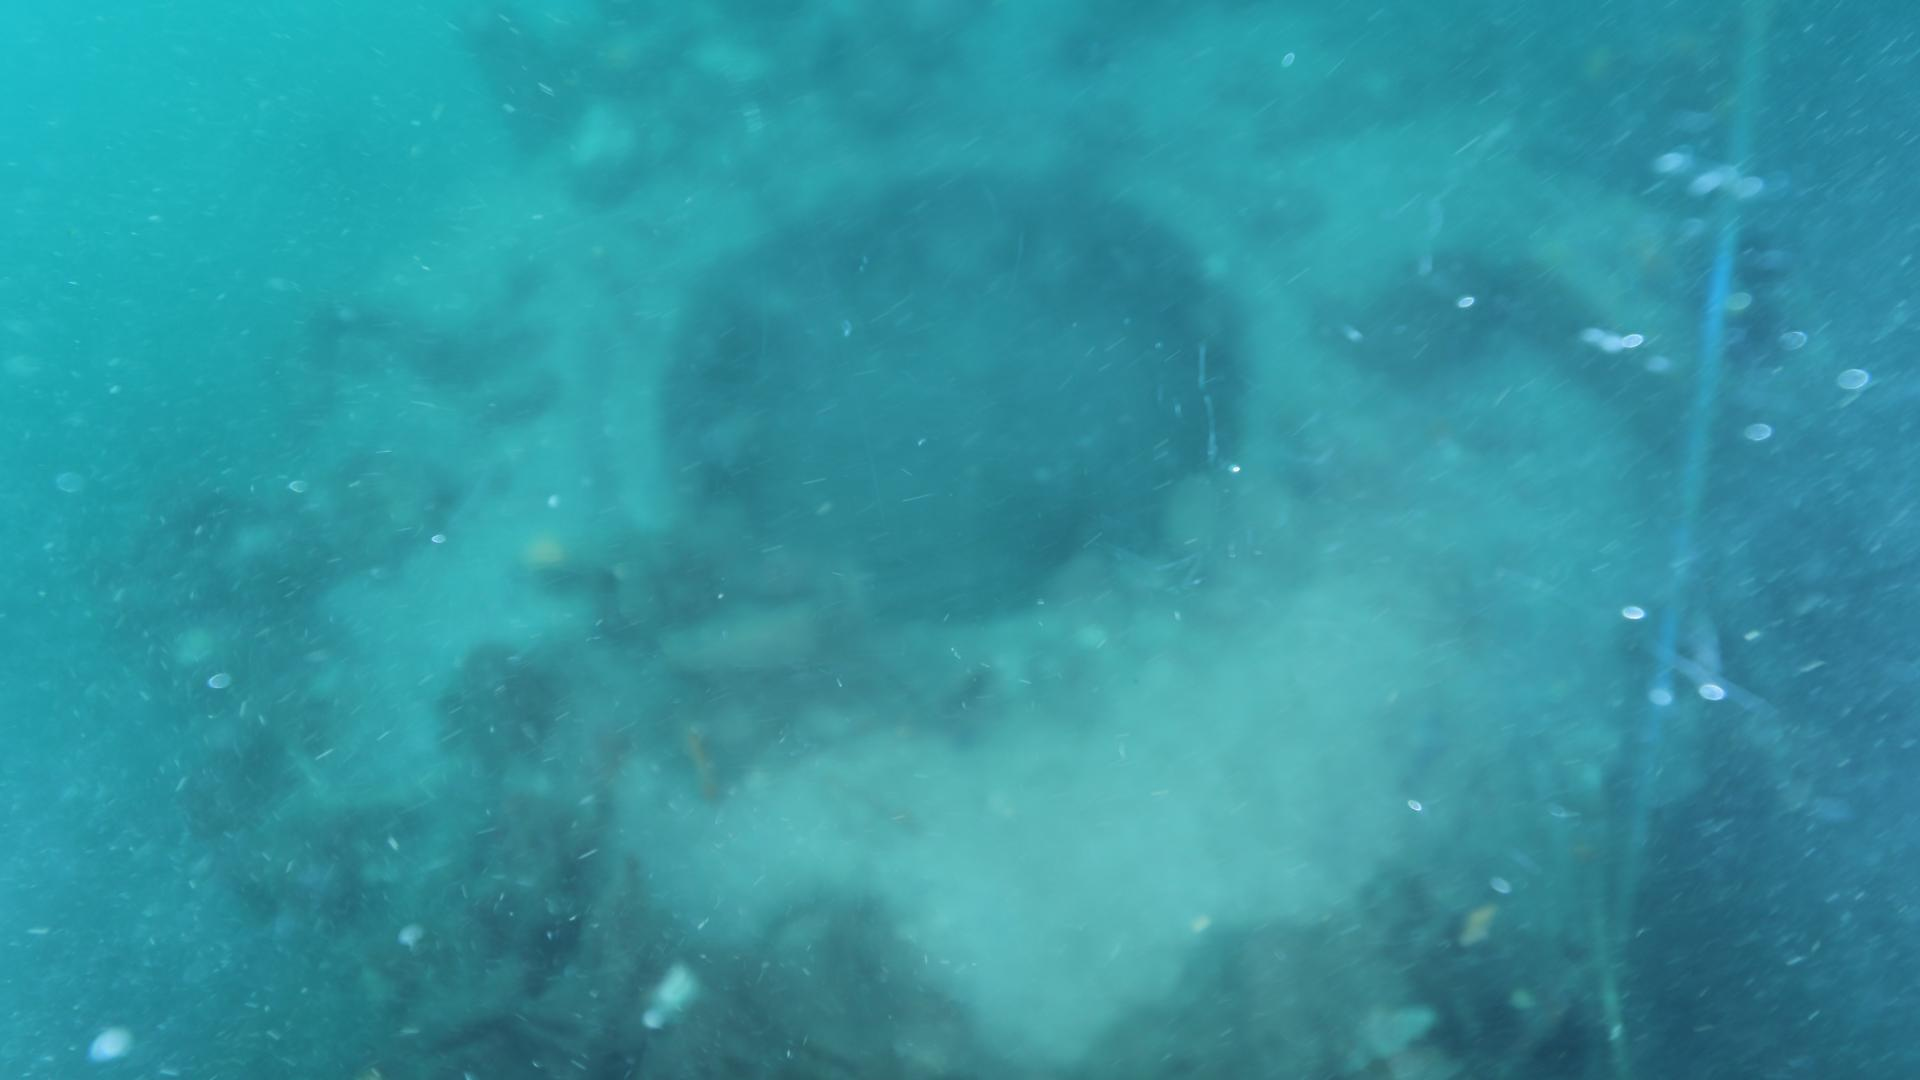tire: (319, 7, 1698, 1072)
